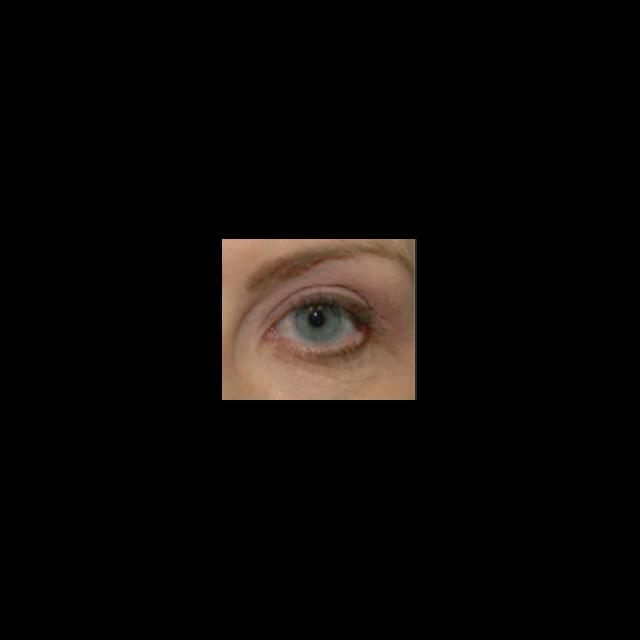eye: (277, 303, 356, 347)
iris: (297, 304, 341, 343)
